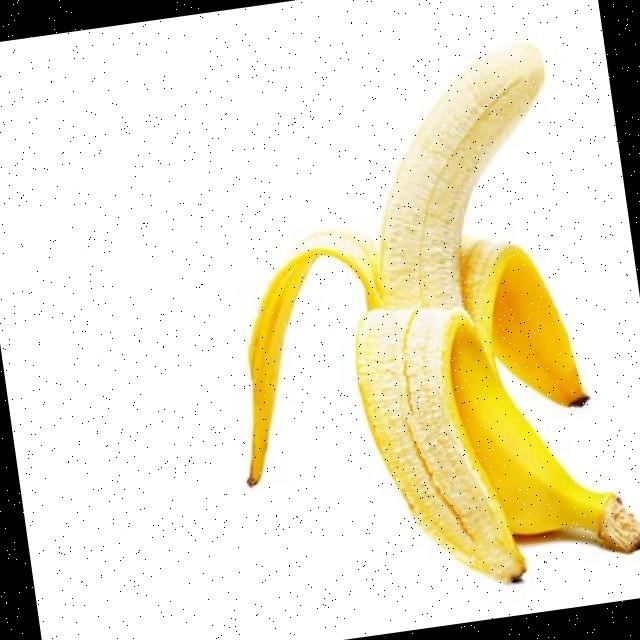banana-peel: (190, 31, 640, 619)
